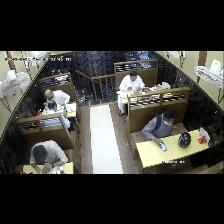person: (117, 71, 144, 116), (142, 110, 177, 144), (30, 141, 67, 172), (44, 90, 69, 105), (62, 111, 73, 131)
